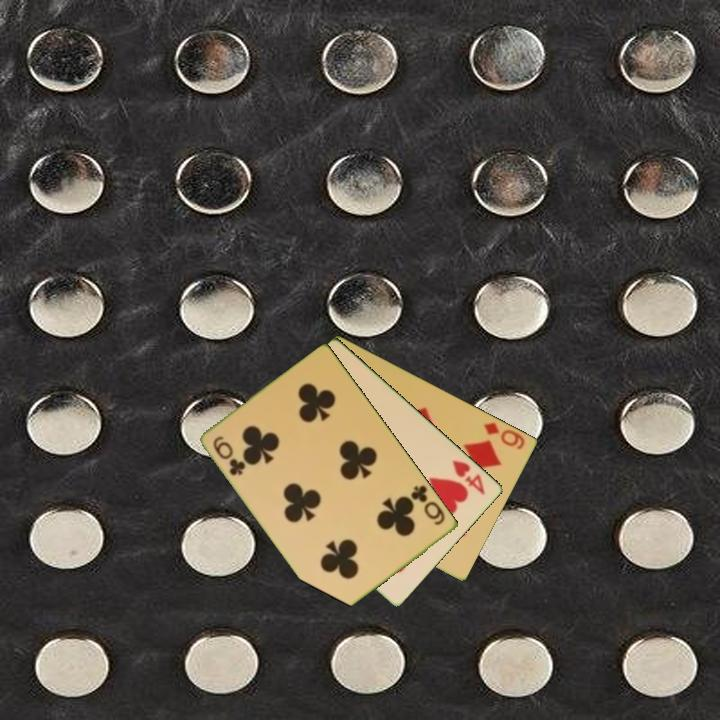4h: (449, 456, 489, 498)
6c: (408, 481, 448, 528), (210, 432, 249, 479)
6d: (481, 418, 528, 452)
